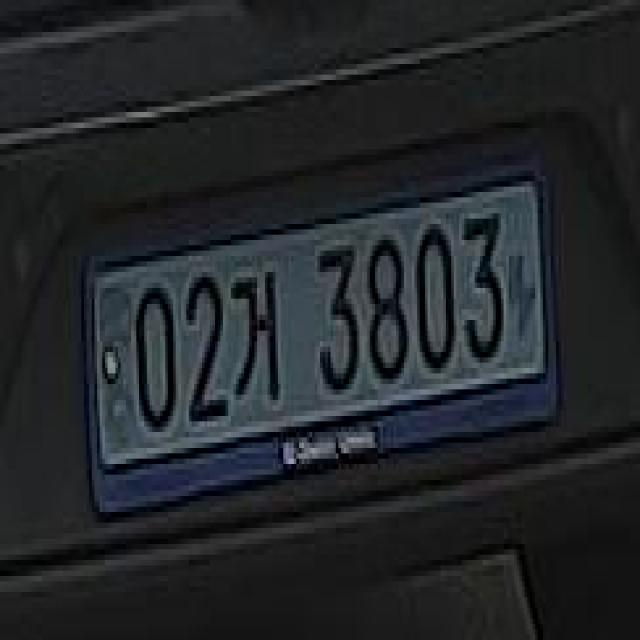EV_plate: (81, 168, 554, 511)
